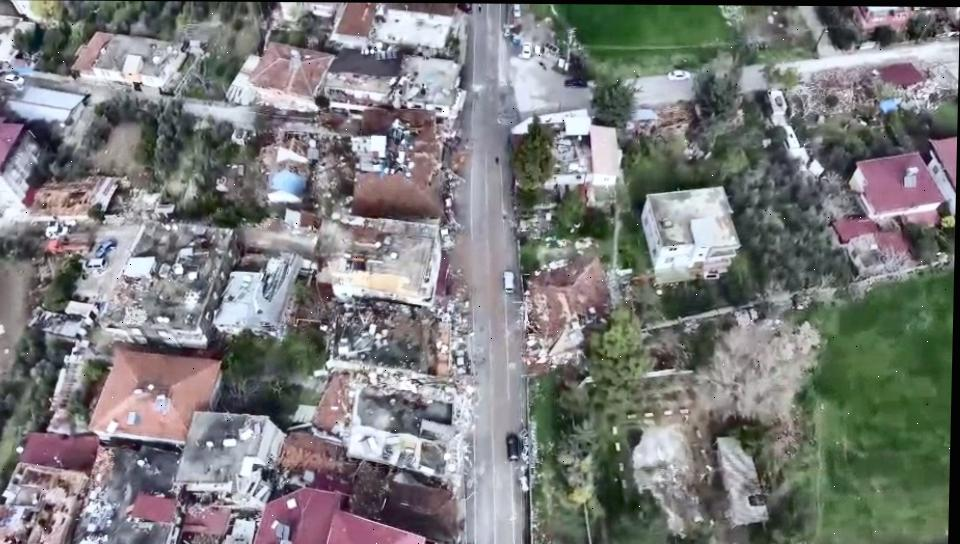kapali: (231, 104, 483, 144)
